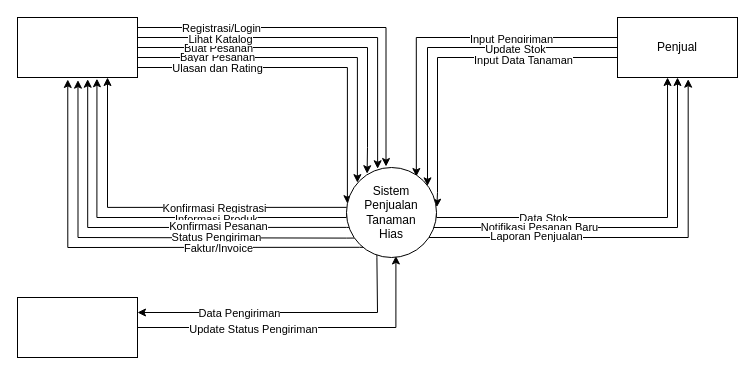
Image size: 755x375. Some labels were removed from this diagram. Each missing label, with the centre of its shape:
"Jasa Pengiriman" goes at (77,327).
"Pelanggan" goes at (77,47).
